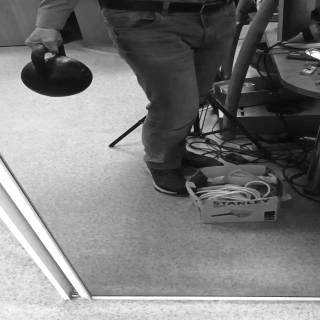kettlebell: (17, 40, 92, 96)
